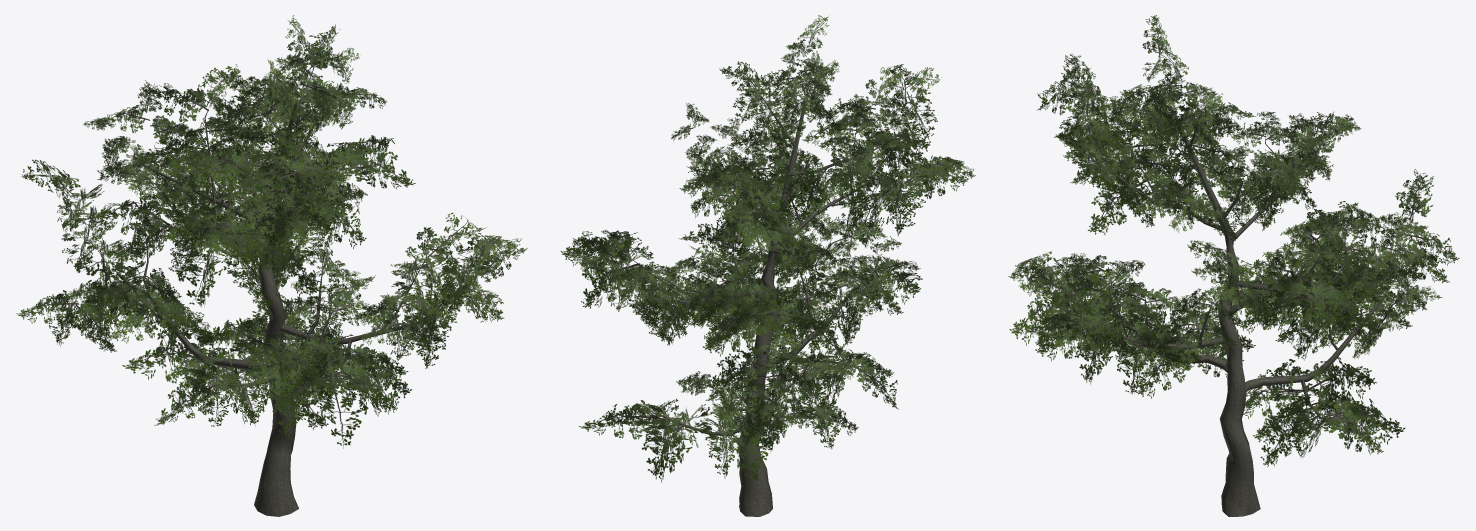
Rendered from oak_big_2.glb.
3 renders of one model, left to right at view 1: azimuth 30°, elevation 25°; view 2: azimuth 150°, elevation 25°; view 3: azimuth 270°, elevation 25°, orthographic. The views are drawn at different scales.
Visible parts, largest first — view 1: Big_oak_tree__002_LOD1_Cluster_Mat_0, Big_oak_tree__002_LOD1_Bark_Mat_0; view 2: Big_oak_tree__002_LOD1_Cluster_Mat_0, Big_oak_tree__002_LOD1_Bark_Mat_0; view 3: Big_oak_tree__002_LOD1_Cluster_Mat_0, Big_oak_tree__002_LOD1_Bark_Mat_0.
Part boxes in pixels (box(x1,y1,x2,y2)): Big_oak_tree__002_LOD1_Cluster_Mat_0: box(16, 15, 527, 448); Big_oak_tree__002_LOD1_Bark_Mat_0: box(116, 71, 428, 516); Big_oak_tree__002_LOD1_Cluster_Mat_0: box(560, 15, 975, 482); Big_oak_tree__002_LOD1_Bark_Mat_0: box(631, 94, 909, 516); Big_oak_tree__002_LOD1_Cluster_Mat_0: box(1008, 15, 1459, 466); Big_oak_tree__002_LOD1_Bark_Mat_0: box(1087, 106, 1403, 516).
Size of the model in its own units: 13.68 by 20.28 by 17.39.
2 materials, 2 textured.
